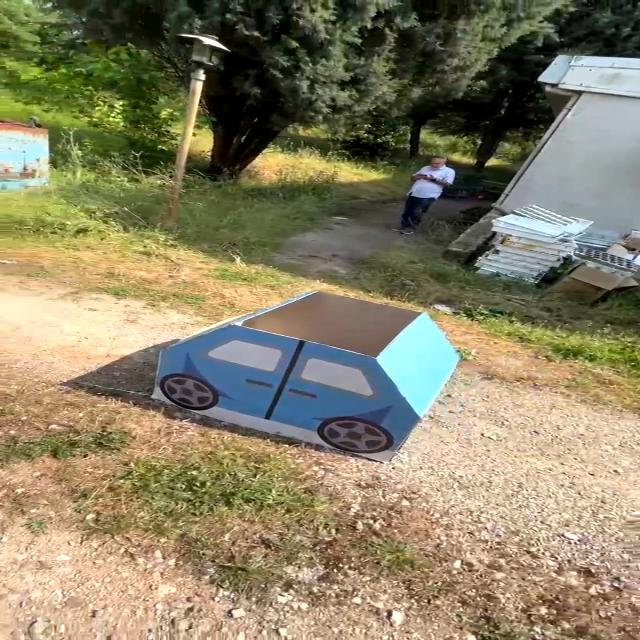blue_car: (114, 281, 512, 474)
